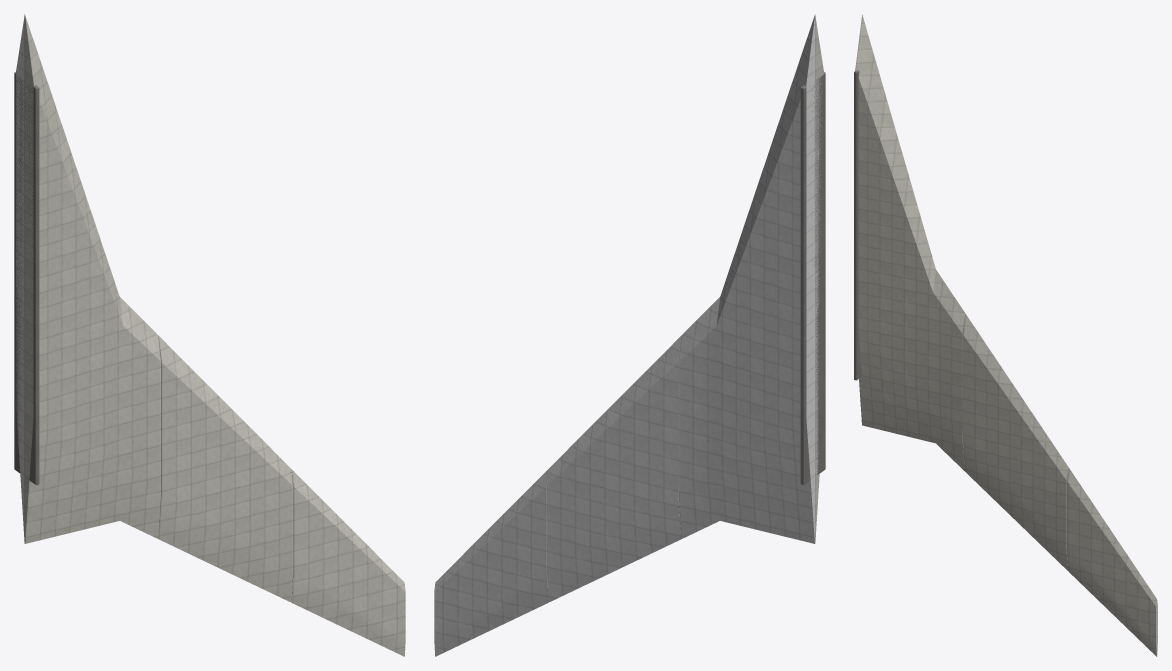
The model's file is ax_aero_17_wgd_delta_wing_m.glb.
The picture shows the model from 3 angles, left to right: view 1: azimuth 30°, elevation 25°; view 2: azimuth 150°, elevation 25°; view 3: azimuth 330°, elevation 25°; orthographic projection. The views are drawn at different scales.
Parts seen in each view (by area): view 1: wing_top, root_flange, wing_underside; view 2: wing_underside, root_flange, wing_top; view 3: wing_top, root_flange.
Part boxes in pixels (<box>): wing_top: <box>24,14,405,656</box>; root_flange: <box>14,72,39,484</box>; wing_underside: <box>16,16,24,541</box>; wing_underside: <box>434,14,815,656</box>; root_flange: <box>800,72,825,484</box>; wing_top: <box>815,16,823,541</box>; wing_top: <box>855,15,1156,656</box>; root_flange: <box>854,70,861,380</box>.
Size of the model in its own units: 3.84 by 7.11 by 0.384.
Materials: 3 (3 with a texture image).
